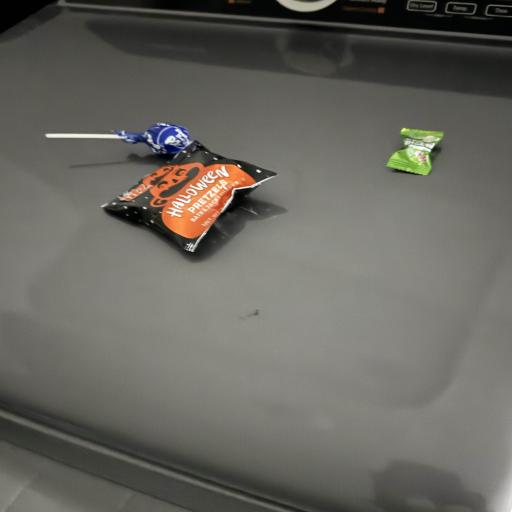chocolate: (103, 142, 276, 251), (387, 129, 443, 175), (115, 123, 191, 154)
